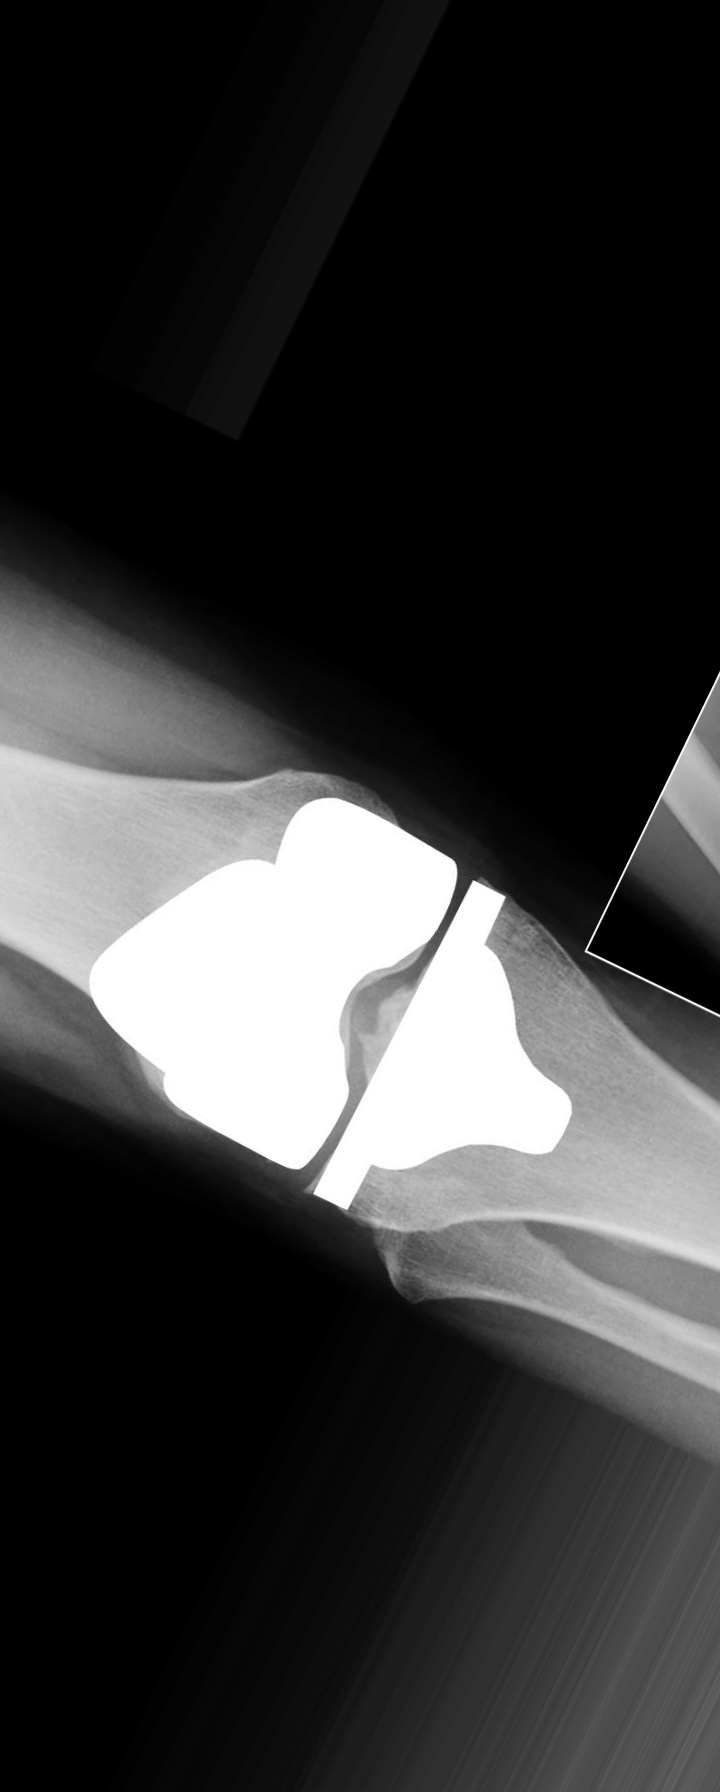Knee-Triathlon-Stryker: (73, 768, 577, 1216)
